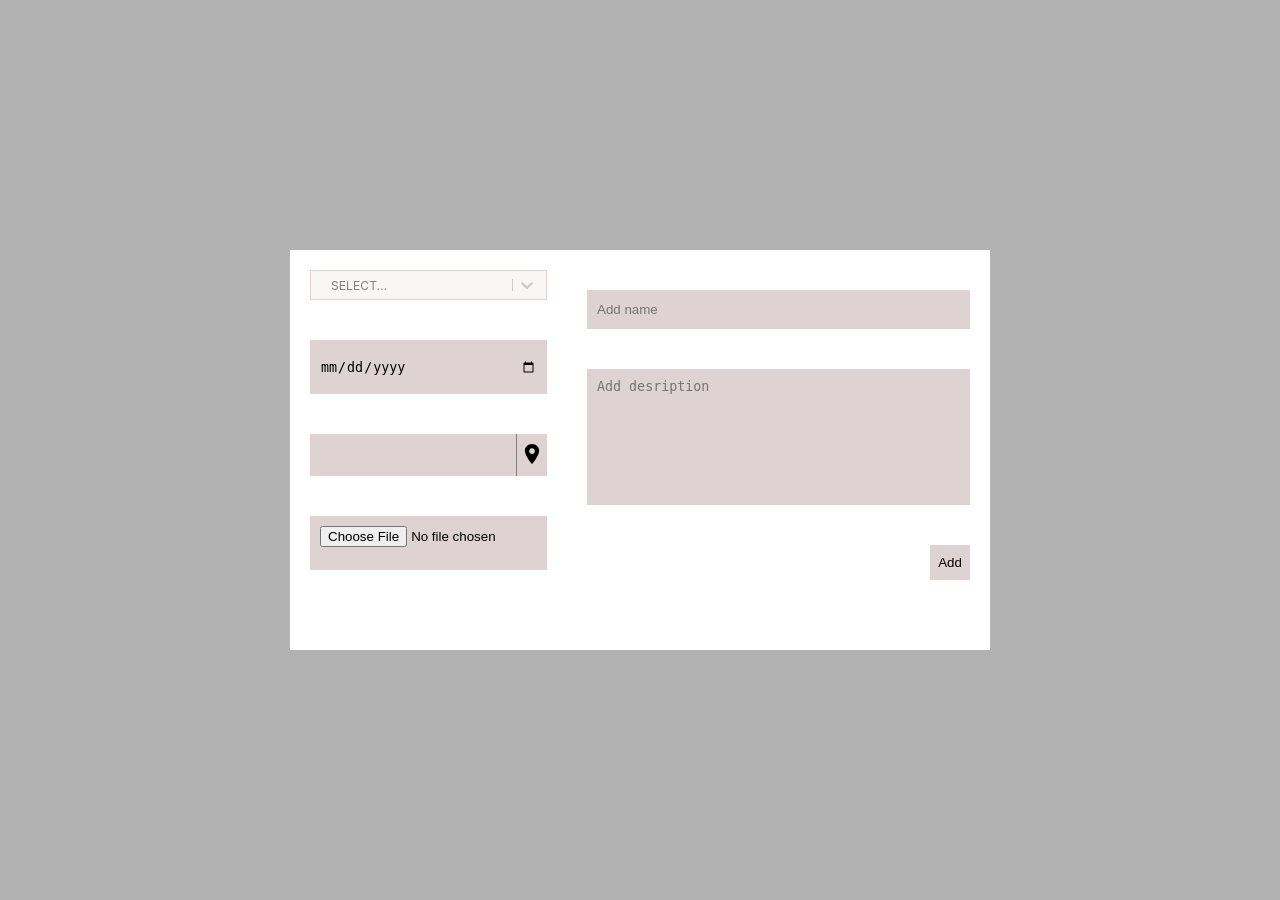
Test: Add card from tests › Open map
The width and height of the screenshot is (1280, 900).
Click the button with test id "button".
click(532, 455)  # box [517,434,547,476]
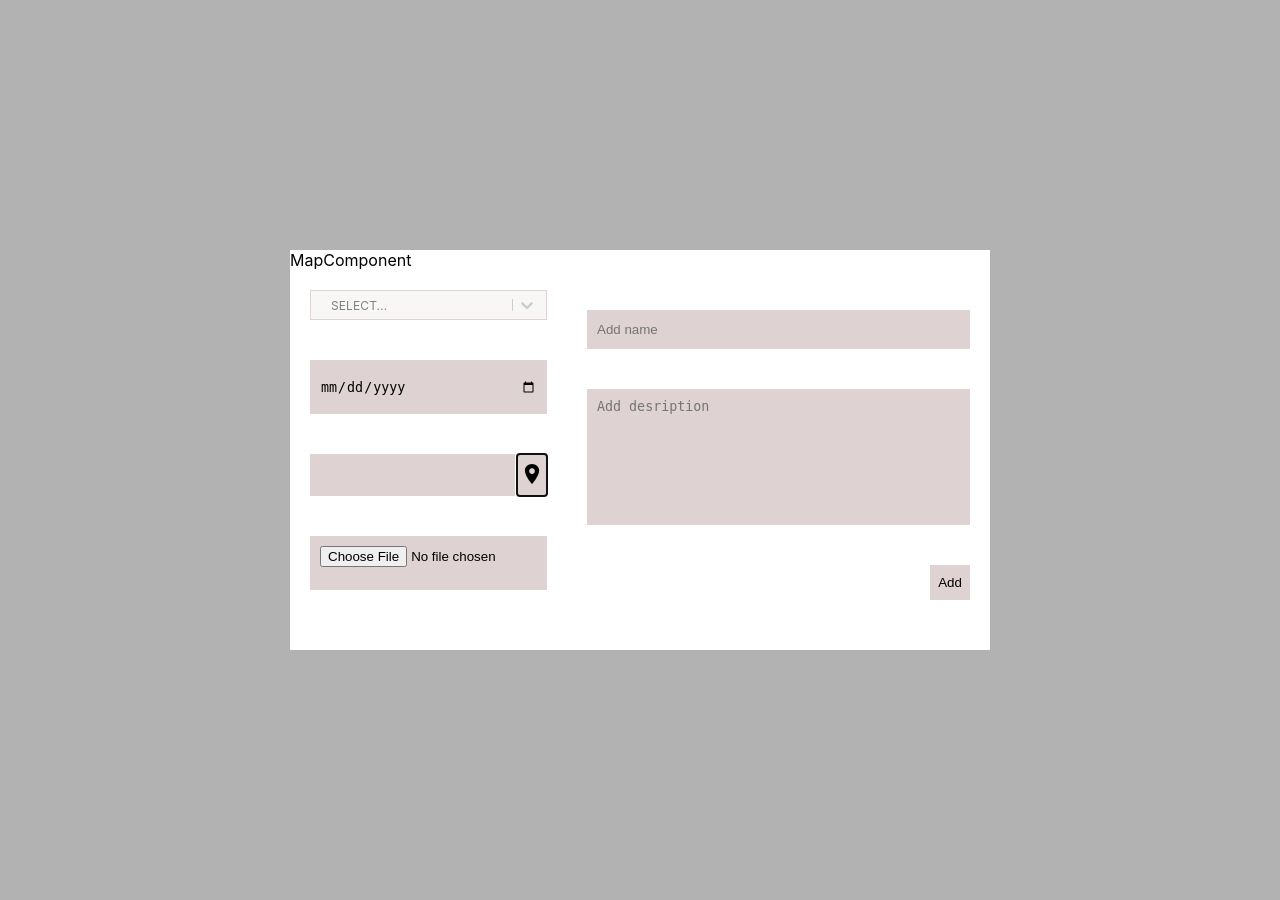
Expected: the text "MapComponent Select... Add" is shown, [290,250,990,650]
